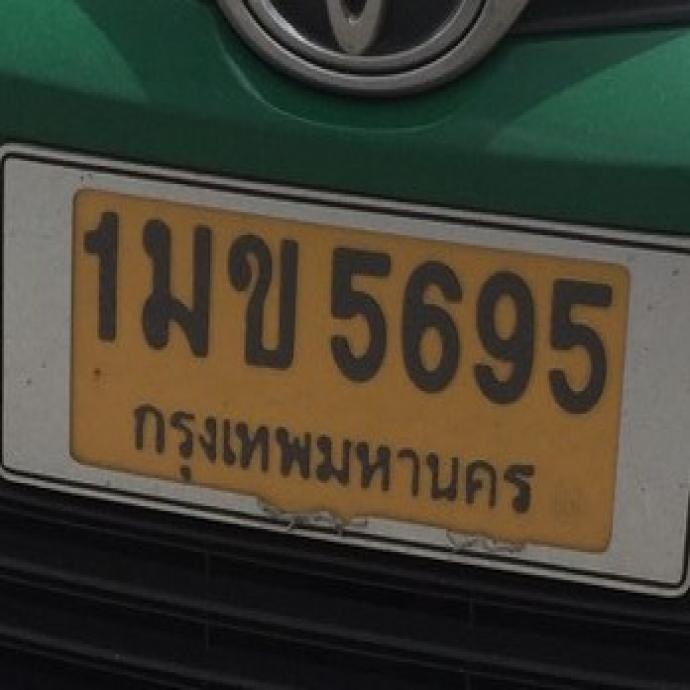1: (79, 203, 129, 349)
5: (538, 272, 622, 418), (319, 240, 394, 384)
6: (389, 254, 466, 394)
9: (466, 265, 539, 413)
A02: (219, 224, 301, 368)
A33: (126, 207, 218, 357)
BKK: (112, 386, 544, 538)
